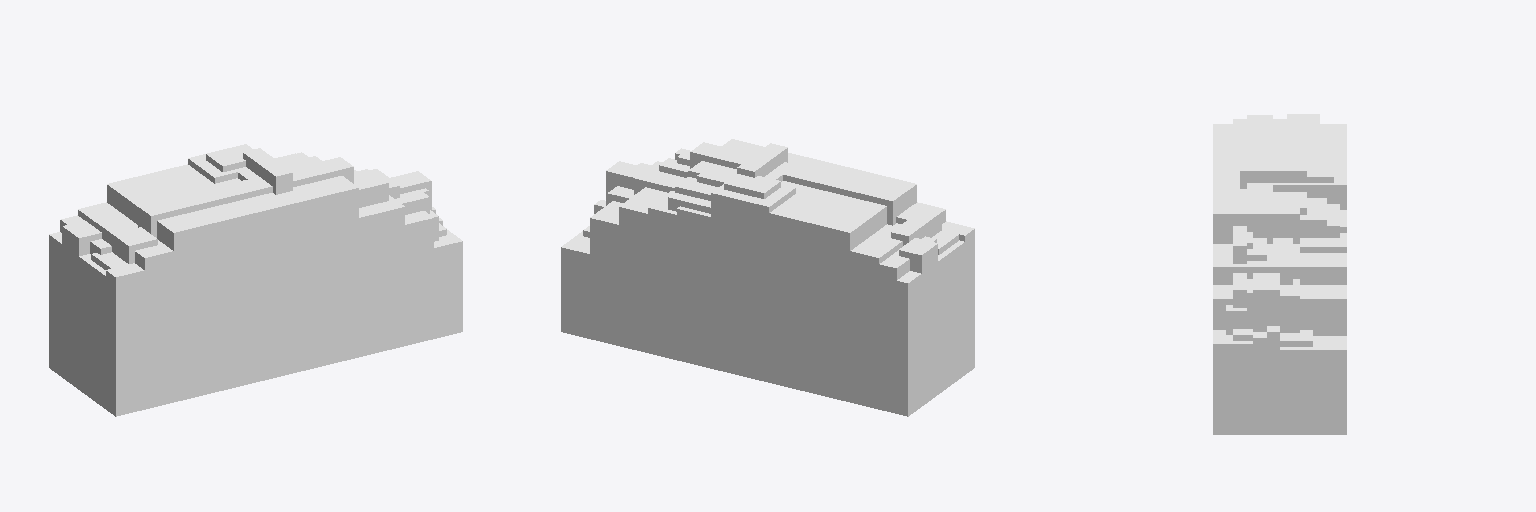
Rendered from rock.obj.
The picture shows the model from 3 angles: view 1: azimuth 30°, elevation 25°; view 2: azimuth 150°, elevation 25°; view 3: azimuth 270°, elevation 25°; orthographic projection.
Parts seen in each view (by area): view 1: object 1; view 2: object 1; view 3: object 1.
Part boxes in pixels (left/top/right/bottom): object 1: left=49, top=144, right=462, bottom=416; object 1: left=561, top=139, right=974, bottom=416; object 1: left=1213, top=114, right=1346, bottom=434.
Bounding box in the file's own units: 6 × 3.1 × 2.